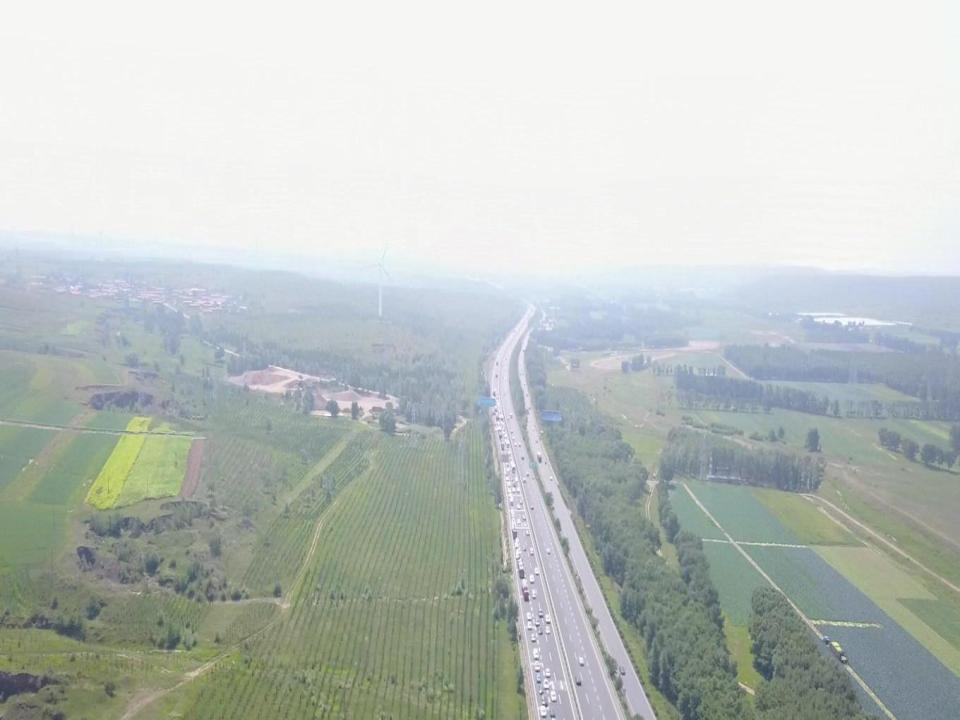car: (618, 664, 626, 675), (540, 705, 547, 717), (542, 694, 548, 708), (515, 548, 522, 559), (575, 675, 581, 686), (545, 667, 551, 678), (534, 661, 540, 672), (549, 708, 556, 717), (534, 617, 540, 627), (514, 538, 519, 550), (551, 691, 556, 702), (536, 673, 541, 684), (544, 679, 549, 689), (530, 634, 536, 642), (526, 612, 532, 620), (545, 625, 550, 634), (538, 609, 543, 618), (532, 589, 536, 600), (578, 657, 584, 664), (528, 620, 532, 630), (534, 567, 539, 575), (530, 573, 534, 583), (540, 685, 544, 695), (546, 614, 550, 623), (538, 626, 543, 633), (546, 548, 550, 554), (522, 478, 526, 483), (526, 472, 530, 477), (526, 529, 529, 535), (522, 546, 526, 550), (522, 515, 526, 519), (530, 506, 534, 510), (550, 476, 553, 481), (517, 519, 520, 523)
truck: (521, 579, 529, 601), (510, 519, 518, 539), (518, 558, 524, 578), (537, 452, 542, 463)
van: (533, 648, 539, 660), (530, 547, 534, 554)
